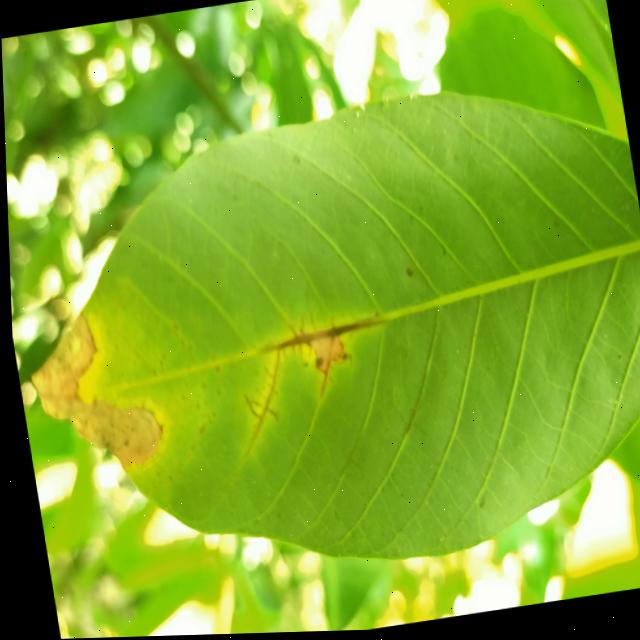Corynespora: (255, 308, 391, 405), (232, 350, 292, 442)
Leaf-Blight: (18, 299, 166, 482)
